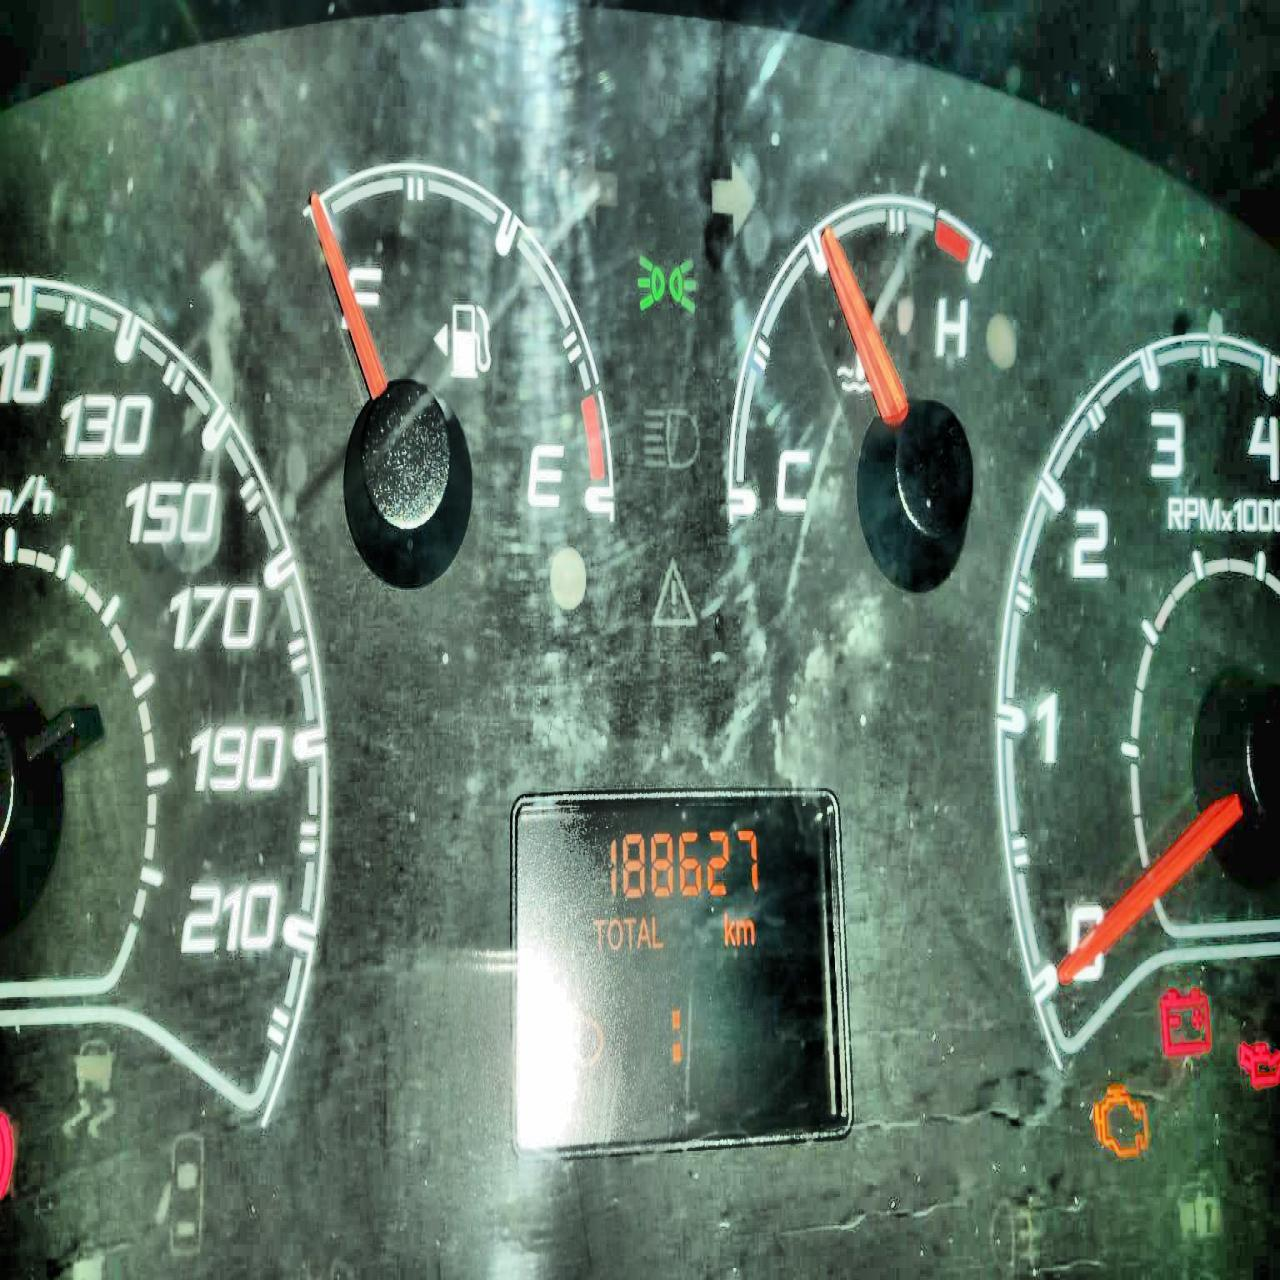1: (610, 837, 617, 897)
2: (706, 828, 729, 893)
6: (678, 829, 701, 894)
7: (737, 826, 758, 890)
8: (621, 831, 645, 899), (649, 830, 673, 897)
X: (670, 1007, 682, 1064), (606, 915, 622, 949), (621, 915, 636, 952), (736, 918, 755, 947), (722, 908, 736, 947), (649, 914, 663, 949), (636, 915, 651, 949), (592, 917, 606, 951)
odometer: (506, 779, 855, 1169)
